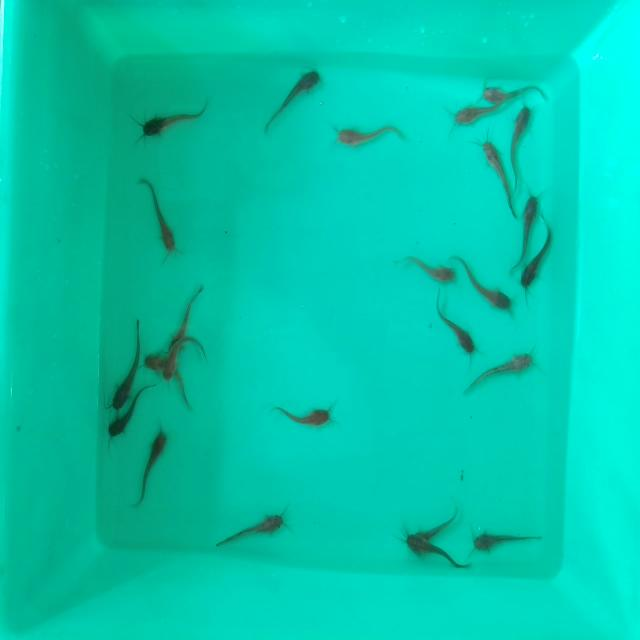lele: (464, 350, 536, 398), (458, 248, 511, 311), (141, 173, 181, 255), (137, 425, 171, 506), (216, 510, 286, 549), (271, 68, 321, 122), (143, 100, 210, 137), (432, 304, 481, 354), (171, 347, 209, 410), (480, 135, 511, 210), (406, 536, 468, 572), (511, 108, 536, 190), (170, 284, 202, 348), (400, 251, 456, 287), (522, 231, 556, 288), (335, 121, 403, 149), (473, 527, 543, 554), (108, 354, 141, 409), (483, 80, 544, 105), (412, 504, 457, 536), (520, 196, 544, 255), (270, 404, 334, 426), (109, 407, 150, 438), (451, 102, 498, 126), (141, 344, 170, 375)
